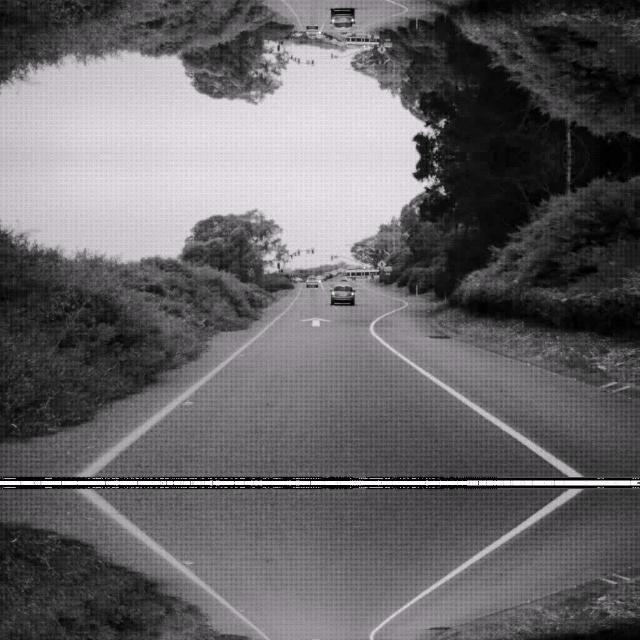pedestrianCrossing: (376, 258, 386, 268), (376, 44, 386, 54)
